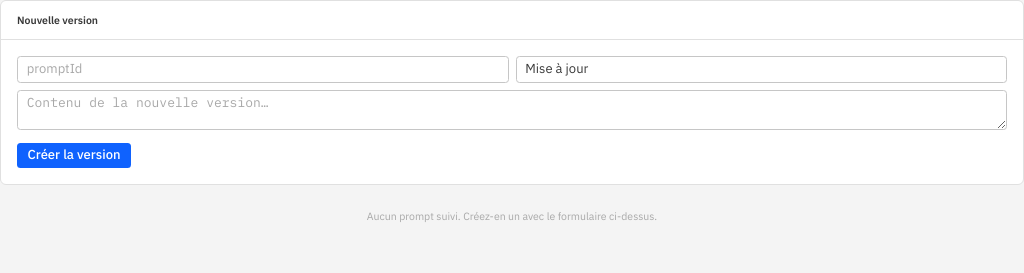
Scenario: VersionHistory › should show error on version creation failure
The width and height of the screenshot is (1024, 273).
Type "test-prompt" into the field with placeholder "promptId" at {"x": 263, "y": 69}, box [17,56,508,82]
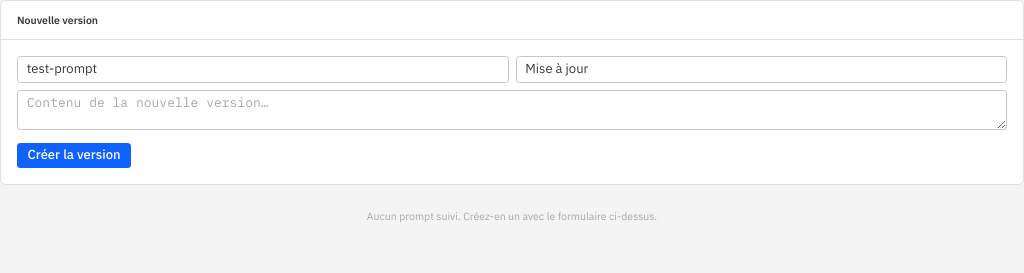
Type "Content" into the text box with placeholder "Contenu de la nouvelle version…" at {"x": 512, "y": 110}, box [17,90,1007,130]
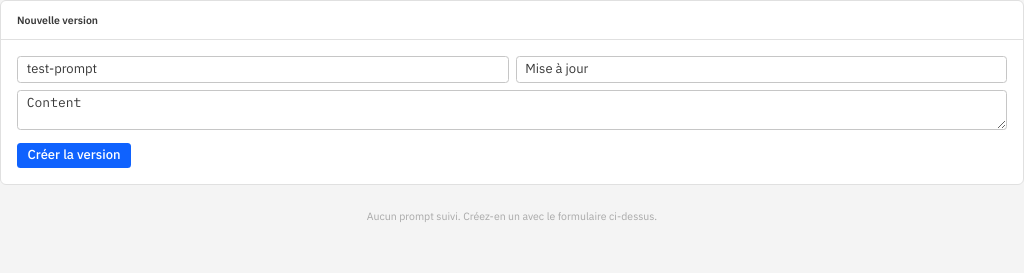
Click the button "Créer la version" at {"x": 74, "y": 155}, box [17,143,131,168]
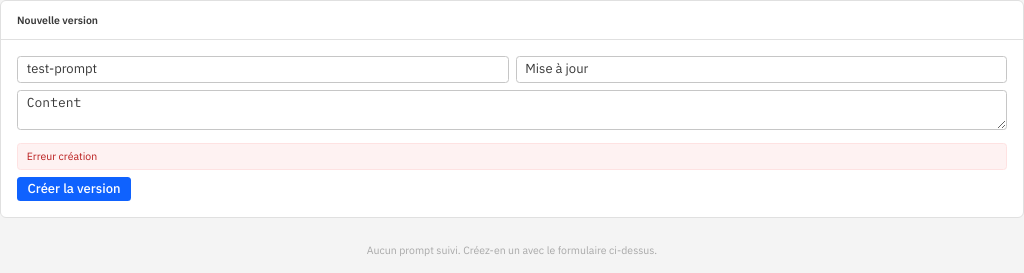
Expected: the text "Erreur création" is shown, [17,143,1007,170]
